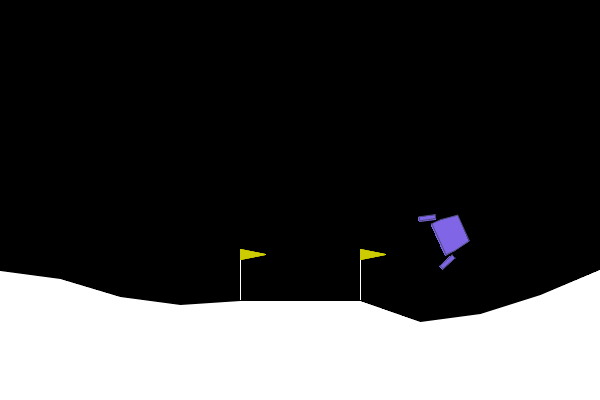lander: (416, 200, 477, 271)
